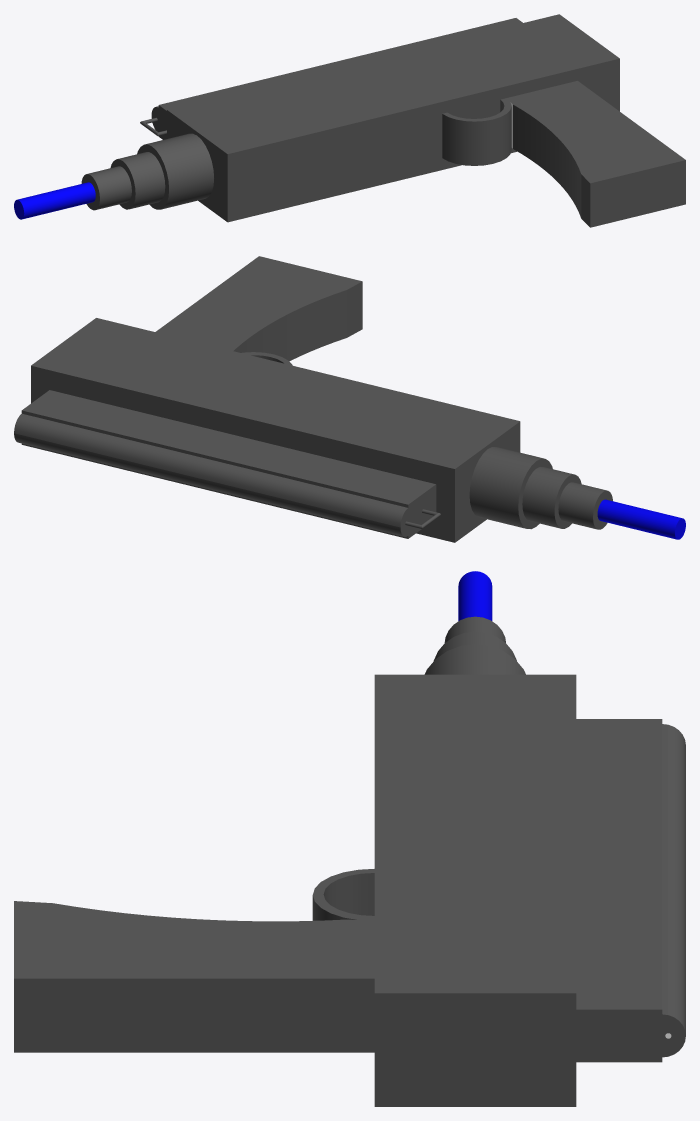
Rendered from Laser Gun.fbx.
The picture shows the model from 3 angles, top to bottom: view 1: azimuth 30°, elevation 25°; view 2: azimuth 150°, elevation 25°; view 3: azimuth 270°, elevation 25°; orthographic projection. The views are drawn at different scales.
Visible parts, largest first — view 1: Model; view 2: Model; view 3: Model.
Part boxes in pixels (bbox=[...]): Model: bbox=[14, 14, 685, 227]; Model: bbox=[14, 256, 685, 542]; Model: bbox=[14, 571, 685, 1106].
Size of the model in its own units: 1287628 by 147061 by 788897.
